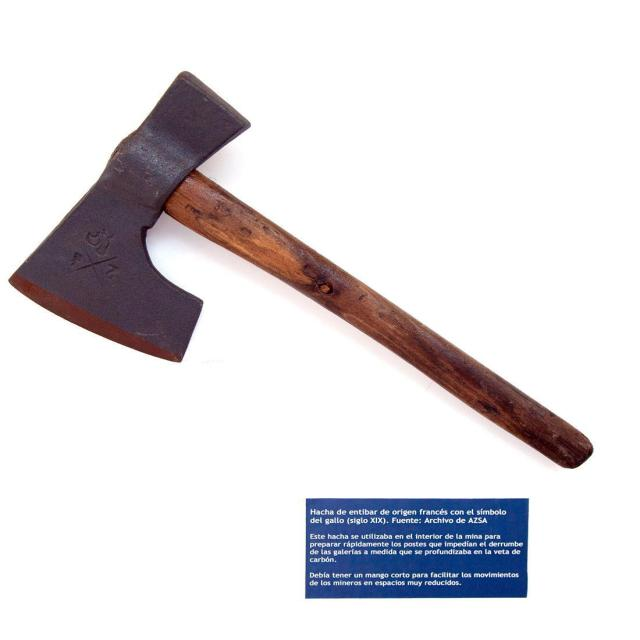Kapak: (31, 57, 601, 448)
